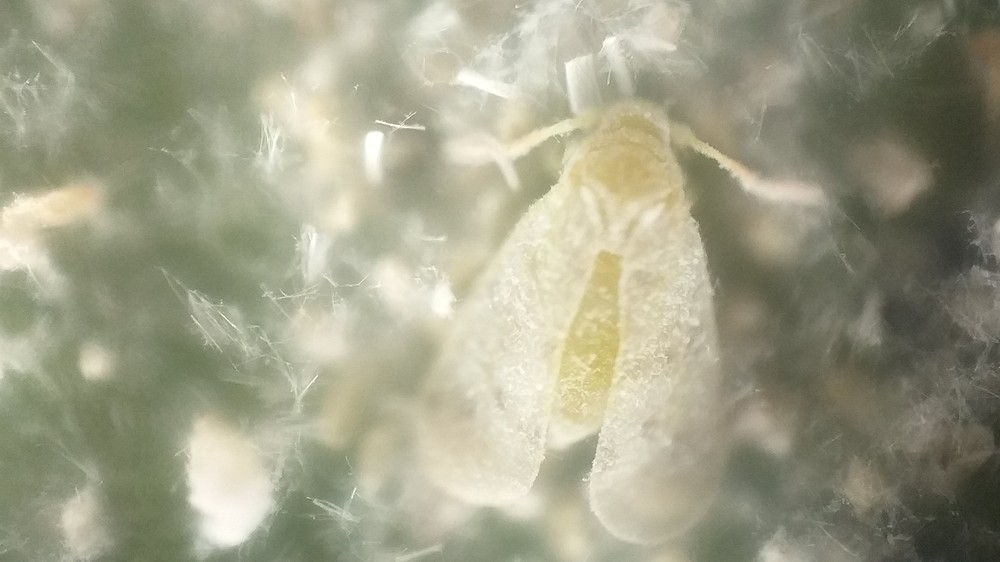Mosca Blanca: (389, 87, 838, 548)
